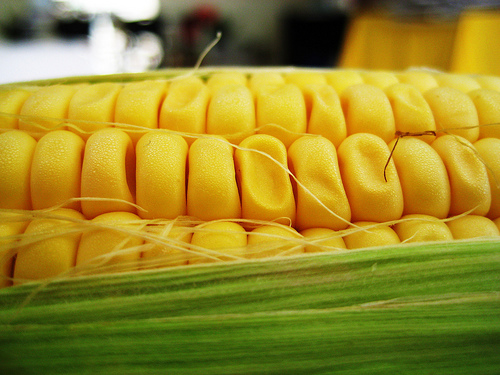corn: (1, 66, 499, 307)
